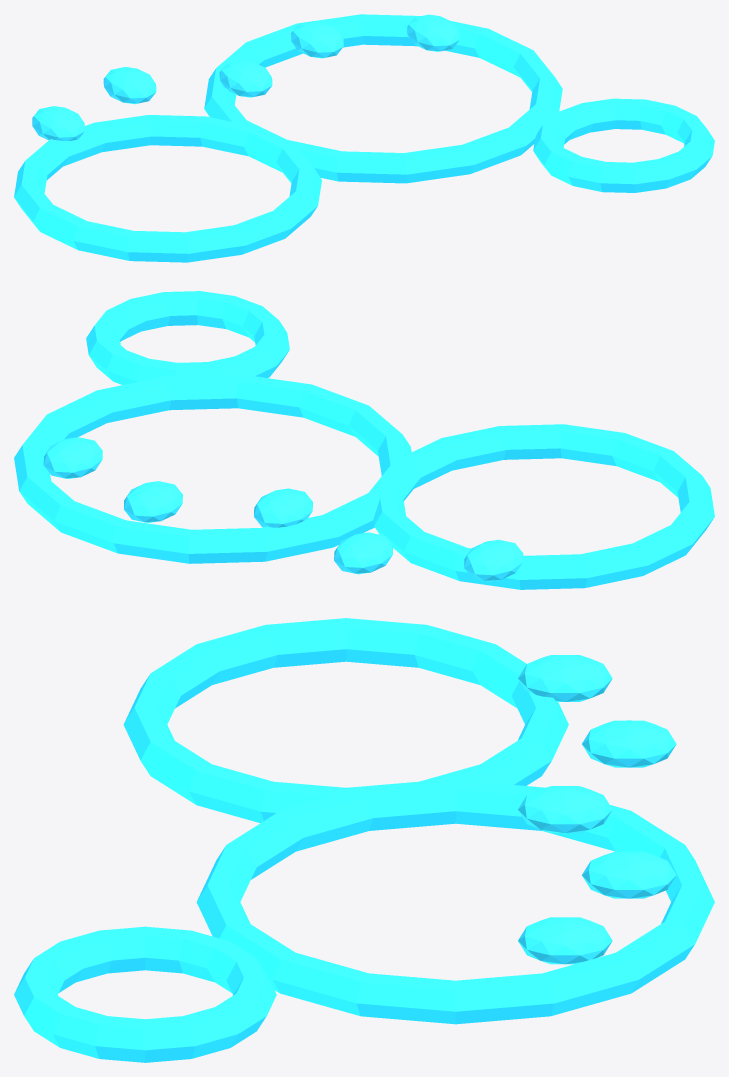
File: forest_foam.glb
3 views of the same model, one above another, from view 1: azimuth 30°, elevation 25°; view 2: azimuth 150°, elevation 25°; view 3: azimuth 270°, elevation 25° (orthographic). The views are drawn at different scales.
Parts seen in each view (by area): view 1: River foam ripple, River foam ripple.001, River foam ripple.002, Foam bead.001, Foam bead.003, Foam bead.004, Foam bead.002, Foam bead; view 2: River foam ripple.001, River foam ripple, River foam ripple.002, Foam bead.004, Foam bead, Foam bead.001, Foam bead.003, Foam bead.002; view 3: River foam ripple.001, River foam ripple, River foam ripple.002, Foam bead.001, Foam bead.003, Foam bead.004, Foam bead.002, Foam bead.
Boxes of the visible parts, x1=… form: River foam ripple: x1=14, y1=115, x2=321, y2=262; River foam ripple.001: x1=204, y1=14, x2=562, y2=183; River foam ripple.002: x1=533, y1=98, x2=714, y2=192; Foam bead.001: x1=103, y1=67, x2=156, y2=104; Foam bead.003: x1=291, y1=21, x2=343, y2=58; Foam bead.004: x1=407, y1=14, x2=459, y2=51; Foam bead.002: x1=219, y1=60, x2=272, y2=97; Foam bead: x1=32, y1=106, x2=84, y2=141; River foam ripple.001: x1=14, y1=374, x2=411, y2=563; River foam ripple: x1=373, y1=424, x2=714, y2=589; River foam ripple.002: x1=86, y1=291, x2=289, y2=384; Foam bead.004: x1=43, y1=437, x2=102, y2=478; Foam bead: x1=464, y1=539, x2=523, y2=581; Foam bead.001: x1=334, y1=532, x2=392, y2=574; Foam bead.003: x1=124, y1=481, x2=182, y2=522; Foam bead.002: x1=254, y1=488, x2=312, y2=527; River foam ripple.001: x1=196, y1=780, x2=714, y2=1024; River foam ripple: x1=123, y1=618, x2=568, y2=823; River foam ripple.002: x1=14, y1=926, x2=276, y2=1062; Foam bead.001: x1=582, y1=720, x2=676, y2=767; Foam bead.003: x1=582, y1=851, x2=676, y2=898; Foam bead.004: x1=518, y1=917, x2=612, y2=964; Foam bead.002: x1=518, y1=786, x2=612, y2=833; Foam bead: x1=518, y1=655, x2=612, y2=701.
Size of the model in its own units: 0.544 by 0.0364 by 0.384.
